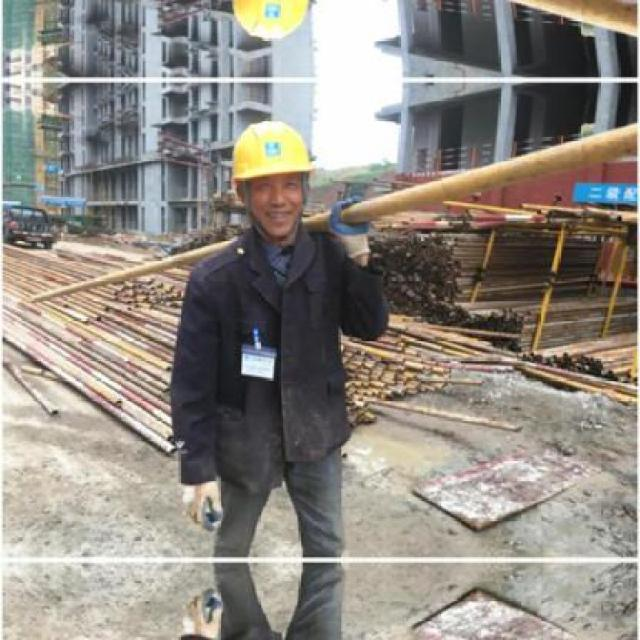helmet: (225, 109, 322, 242), (224, 0, 323, 52)
